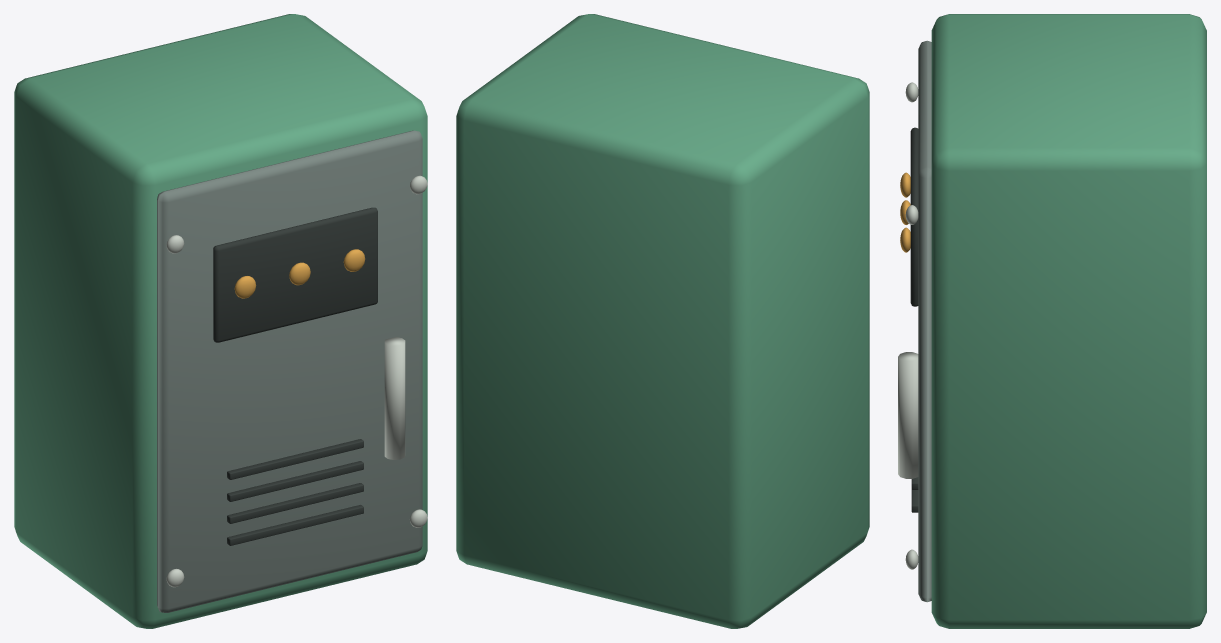
Rendered from archive_cabinet.glb.
3 renders of one model, left to right at view 1: azimuth 30°, elevation 25°; view 2: azimuth 150°, elevation 25°; view 3: azimuth 270°, elevation 25°, orthographic. The views are drawn at different scales.
Parts seen in each view (by area): view 1: Recovered data cabinet; view 2: Recovered data cabinet; view 3: Recovered data cabinet.
Part boxes in pixels (box(x1,y1,x2,y2)): Recovered data cabinet: box(14, 14, 427, 628); Recovered data cabinet: box(456, 14, 869, 628); Recovered data cabinet: box(898, 14, 1206, 628).
Bounding box in the file's own units: 0.7 × 1.06 × 0.617.
